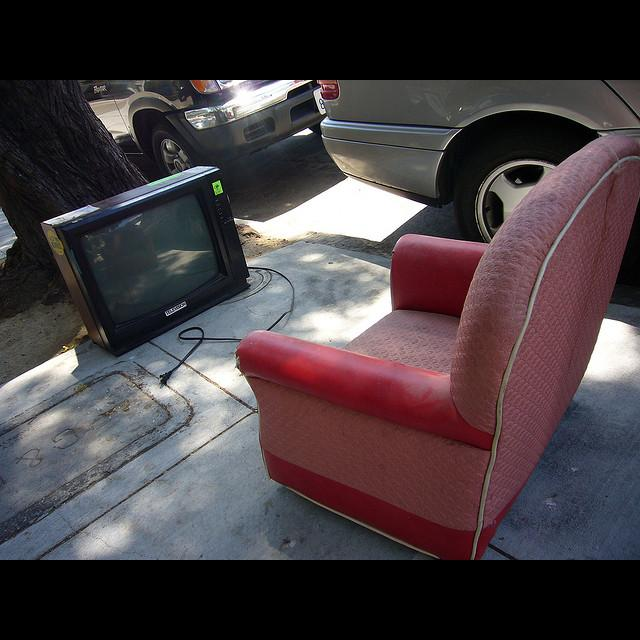Flat-Panel-TV: (41, 161, 251, 358)
